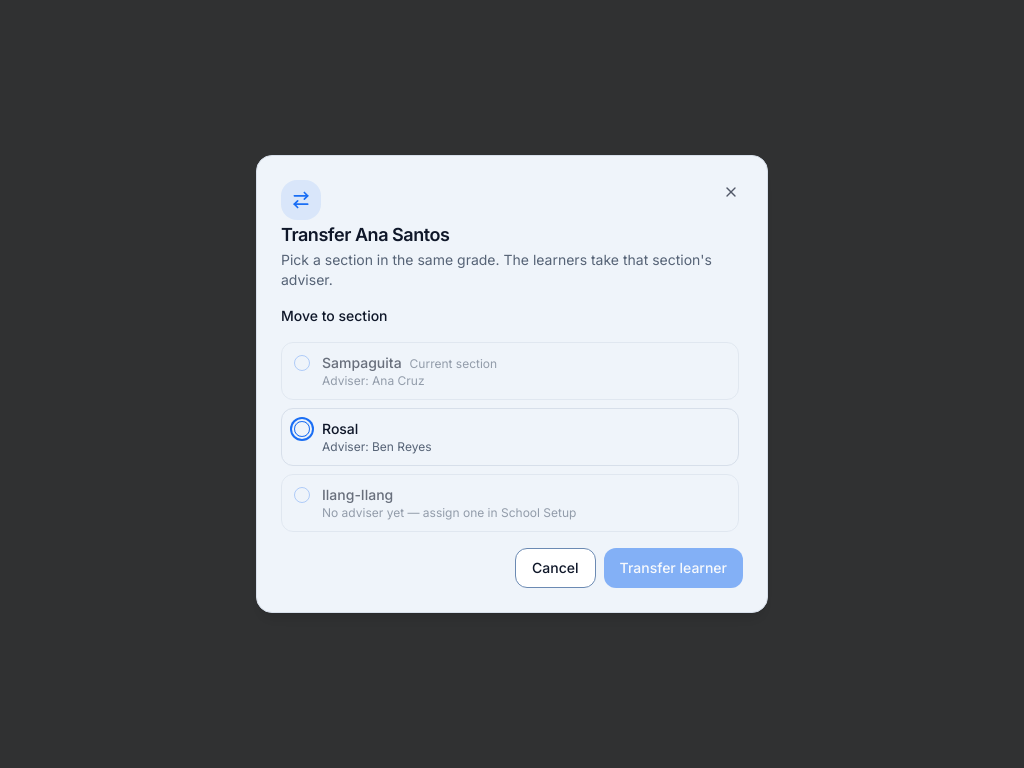
Scenario: TransferLearnersDialog — outcomes › shows a refresh callout for a TRANSFER_* failure
Click the radio button named "Rosal" next to "Rosal": point(302, 429) [294, 421, 310, 437]
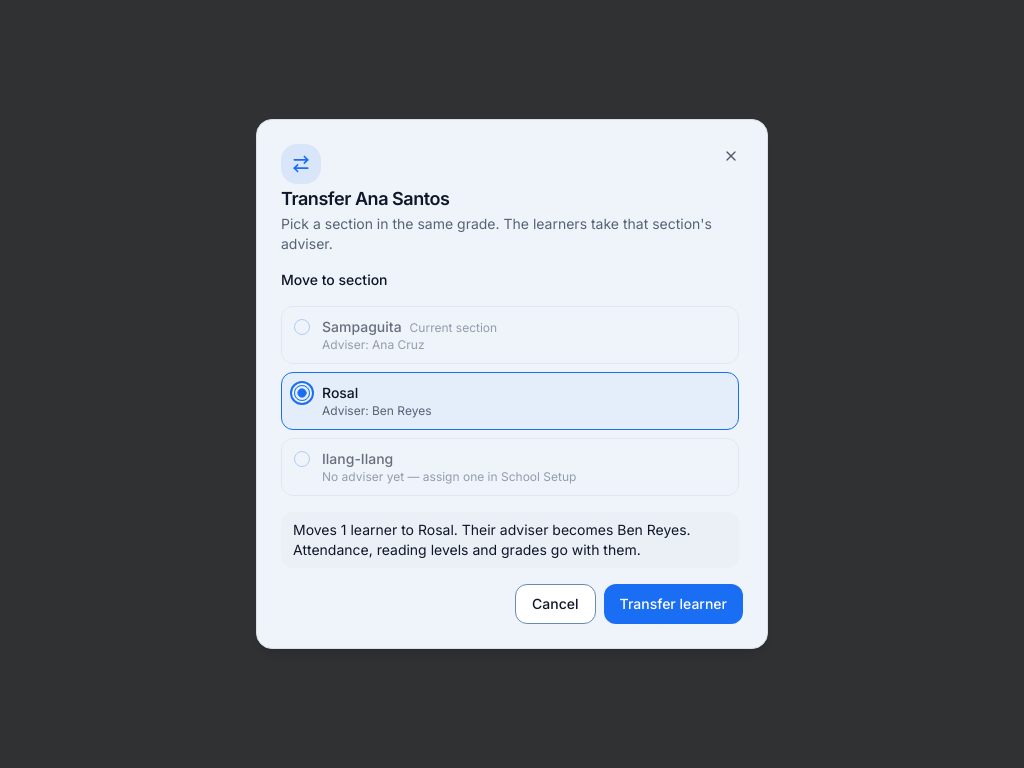
Click the button "Transfer learner": point(673, 604) [604, 584, 743, 624]
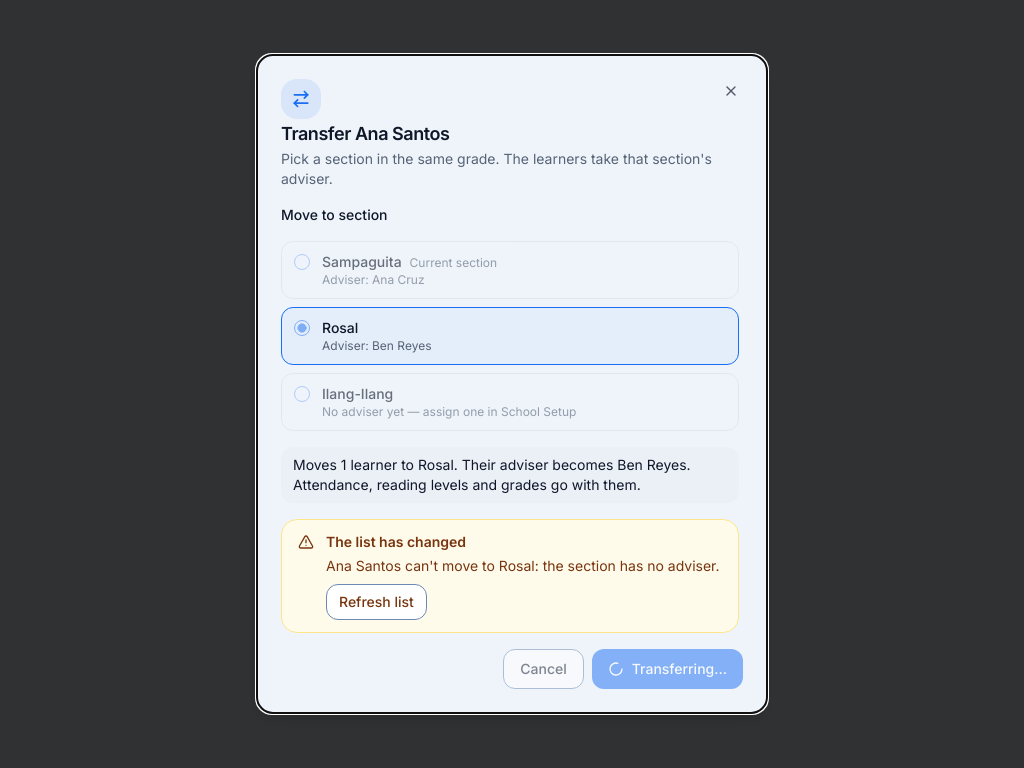
Expected: the text "The list has changed" is shown, [326, 533, 466, 550]
Click the button "Refresh list": point(376, 602) [326, 584, 427, 620]
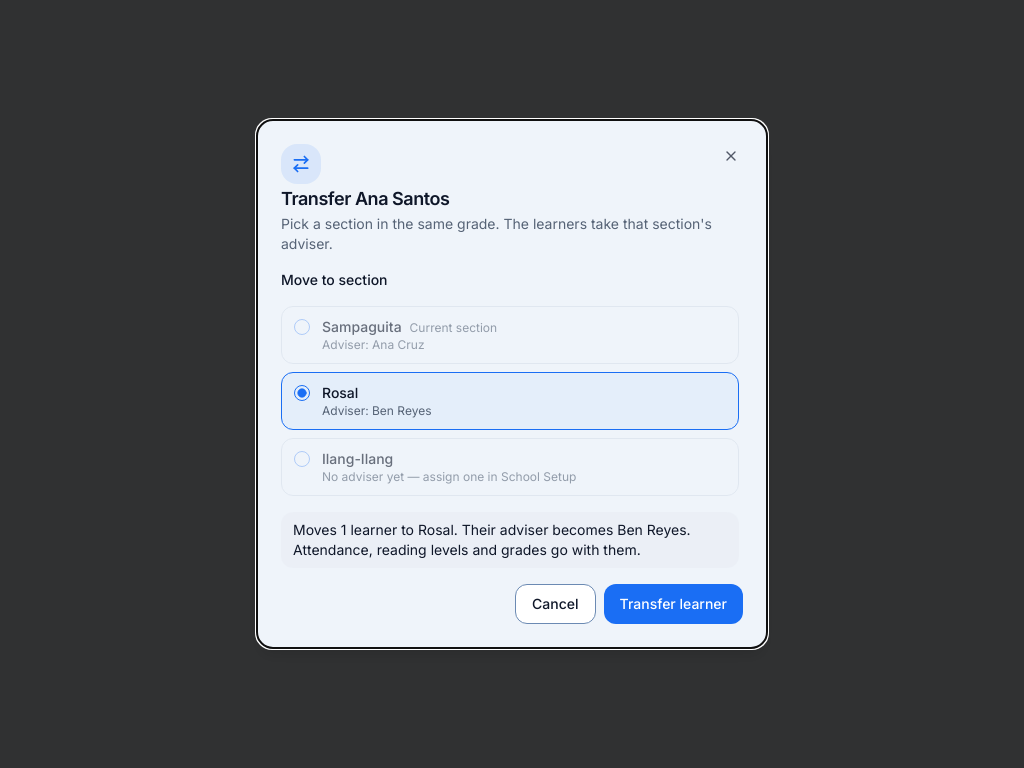
Expected: the text "The list has changed" is gone
